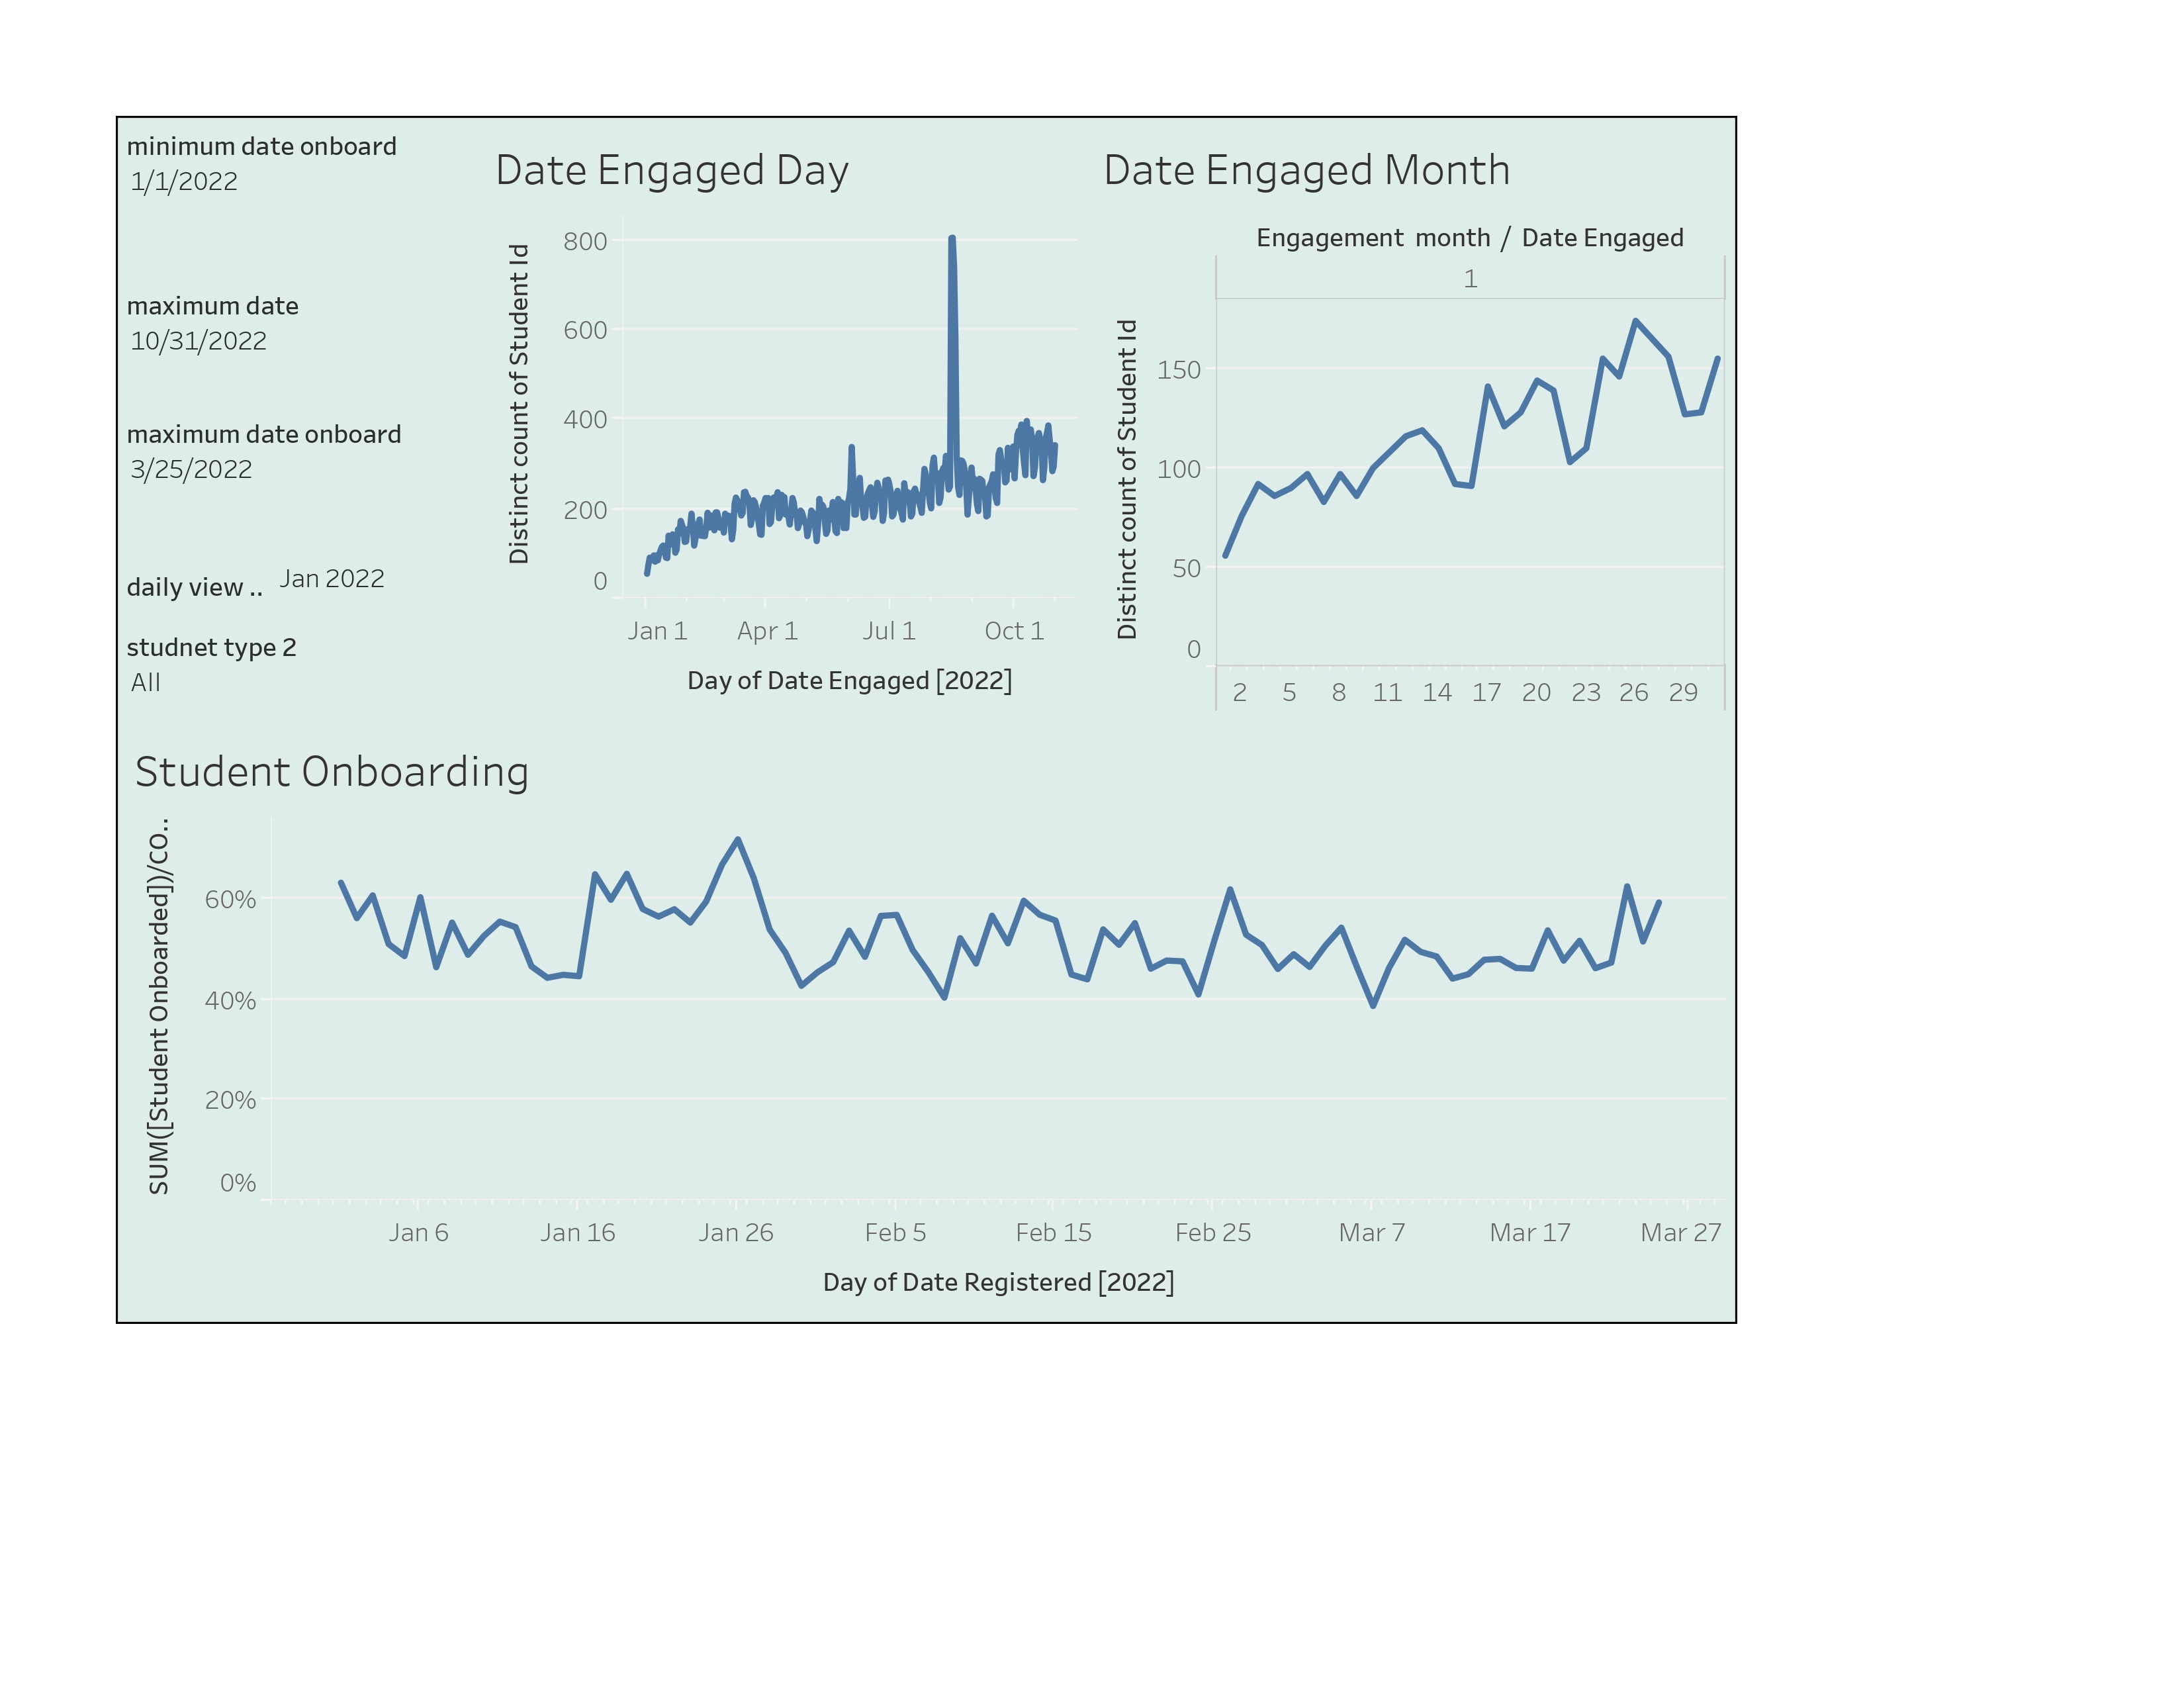

The dashboard page shown, as its layout file describes it:
{"tool":"tableau","page":{"name":"Student Engagement & Onboarding","canvas":[800,600],"ordinal":1},"visuals":[{"type":"parameter","param":"[Parameters].[minimum range (copy)]","box":[9,9,173.6,76.7]},{"type":"worksheet","title":"Date Engaged Day","mark":"Automatic","rows":["student_id"],"cols":["date_engaged"],"box":[182.6,9,294.2,291]},{"type":"worksheet","title":"Date Engaged Month","mark":"Automatic","rows":["student_id"],"cols":["Engagement  month","date_engaged"],"box":[476.8,9,314.2,291]},{"type":"parameter","param":"[Parameters].[maximum (copy)]","box":[9,85.7,173.6,61.8]},{"type":"parameter","param":"[Parameters].[maximum date (copy)]","box":[9,147.5,173.6,71.6]},{"type":"parameter","param":"[Parameters].[Parameter 6]","box":[9,219.2,173.6,32.3]},{"type":"parameter","param":"[Parameters].[studnet type (copy)]","box":[9,251.5,173.6,48.5]},{"type":"worksheet","title":"Student Onboarding","mark":"Automatic","rows":["Calculation_767863802257539073"],"cols":["date_registered"],"box":[9,300,782,291]}]}

Visuals, with their boxes in screenshot pixels (x1, y1, x2, y2), scaled from the page's 800x600 canvas onto the 2184x1688 screenshot:
parameter: x1=24, y1=25, x2=498, y2=241
"Date Engaged Day" worksheet: x1=498, y1=25, x2=1302, y2=844
"Date Engaged Month" worksheet: x1=1302, y1=25, x2=2160, y2=844
parameter: x1=24, y1=241, x2=498, y2=415
parameter: x1=24, y1=415, x2=498, y2=616
parameter: x1=24, y1=617, x2=498, y2=708
parameter: x1=24, y1=708, x2=498, y2=844
"Student Onboarding" worksheet: x1=24, y1=844, x2=2160, y2=1663
